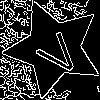V: (28, 23, 85, 80)
